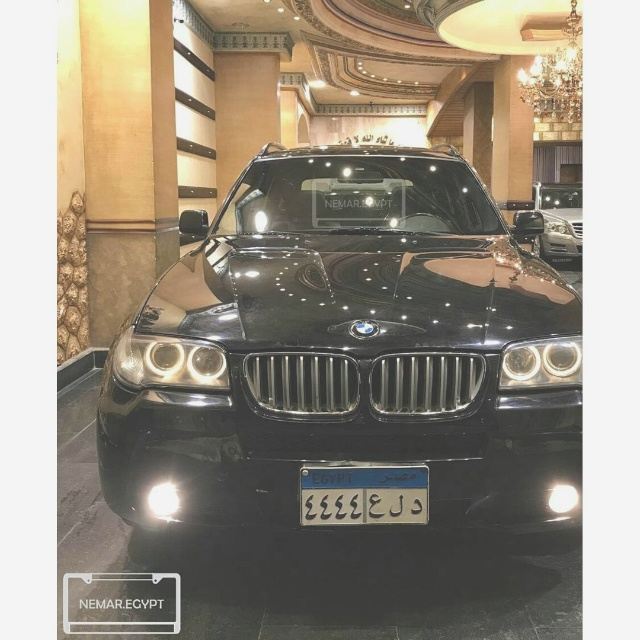License Plate: (294, 463, 433, 529)
